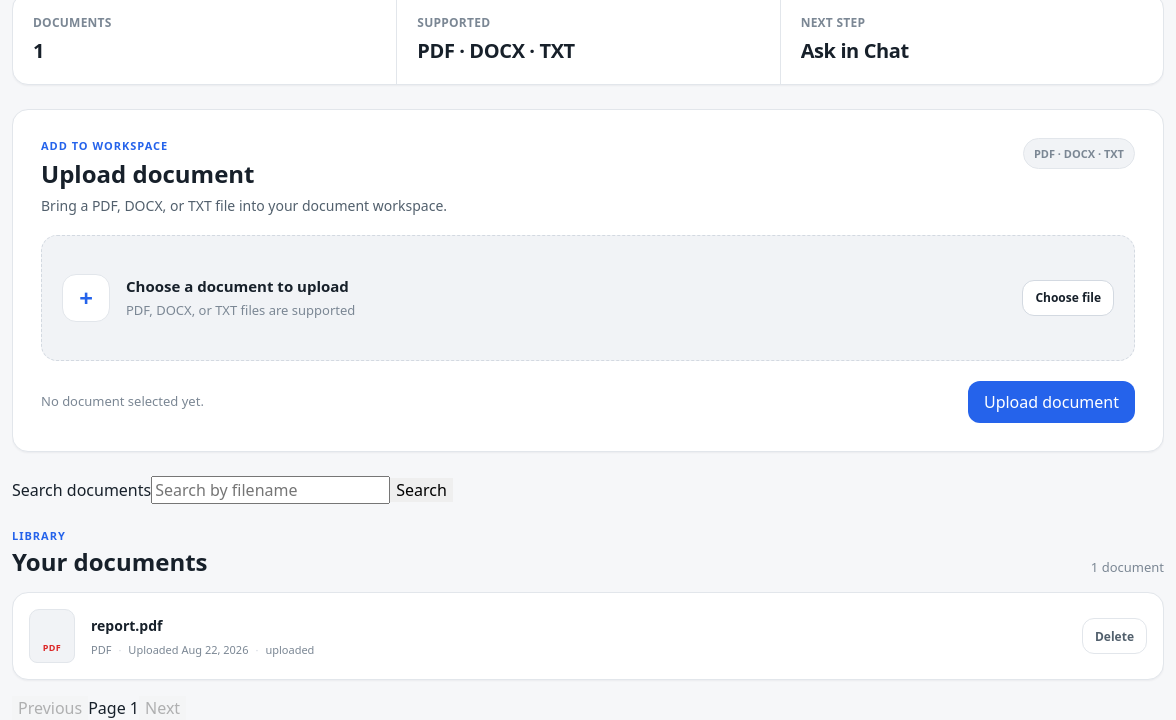
Scenario: DashboardPage › offers delete with inline confirmation and supports cancel
The width and height of the screenshot is (1176, 720).
(page scrolled)
Expected: the text "report.pdf" is shown, [91,616,162,635]
Click the button "Delete" at (1114, 636), box [1082,618,1147,654]
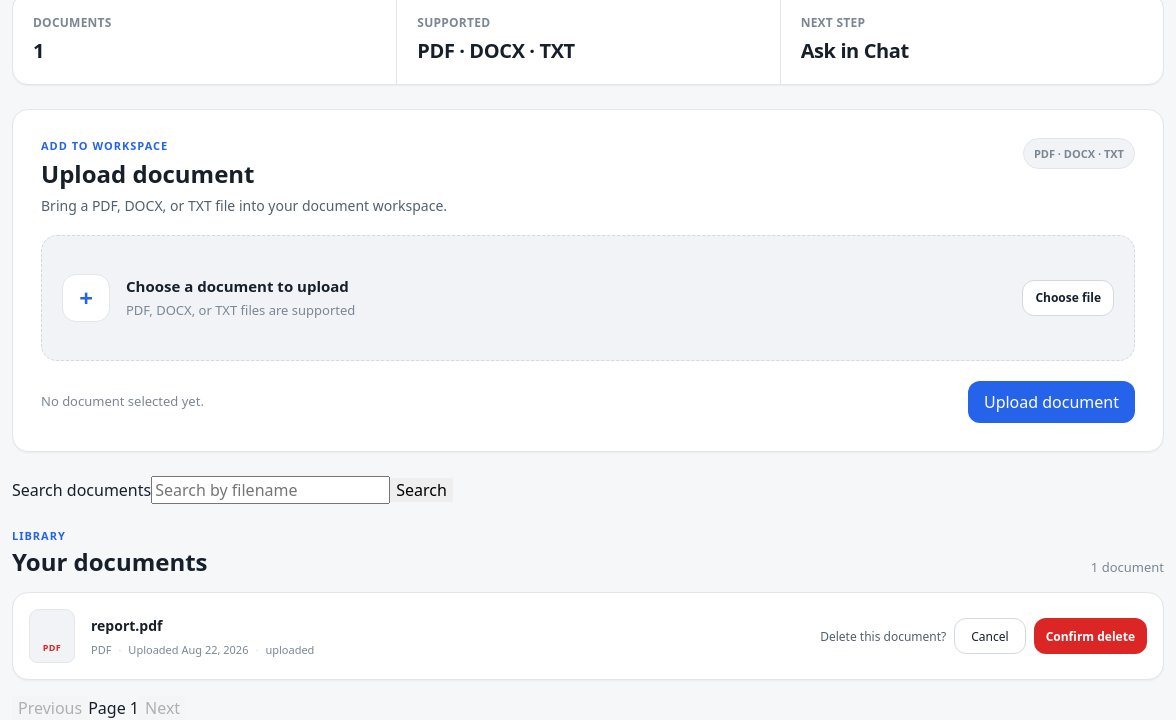
Now the text "Delete this document?" is shown, box [820,628,946,645]
Click the button "Cancel" at (990, 636), box [954,618,1026,654]
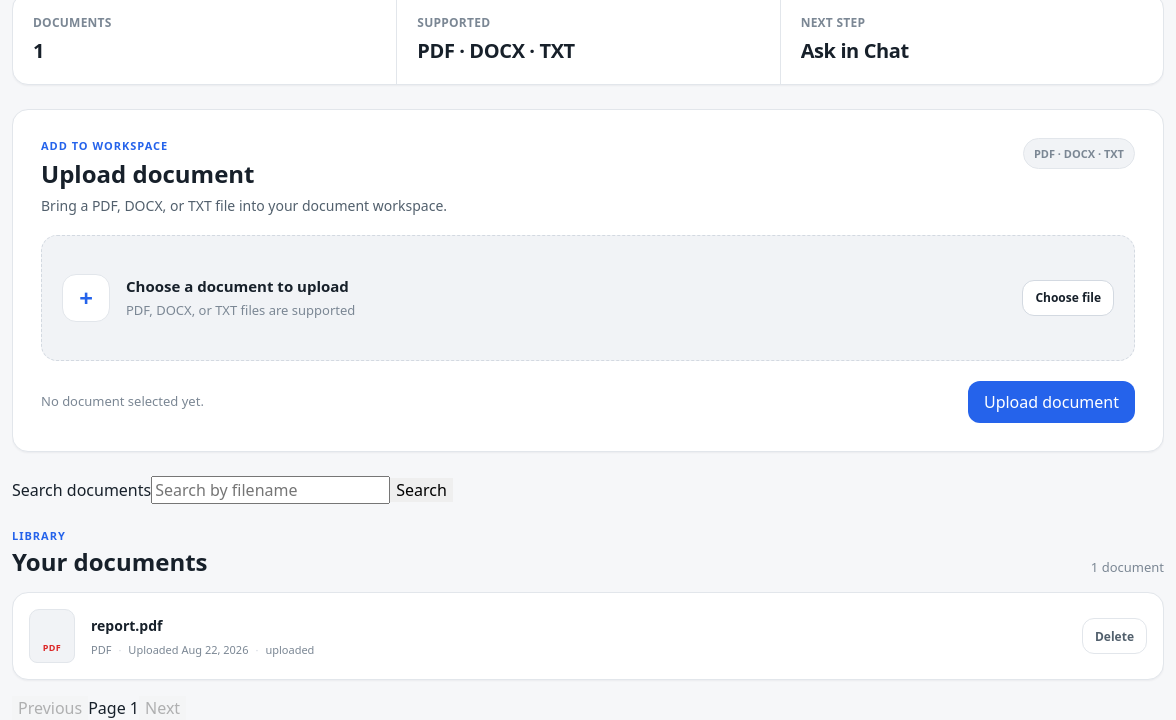
Expected: the text "report.pdf" is shown, [91,616,162,635]
Now the text "Delete this document?" is gone
